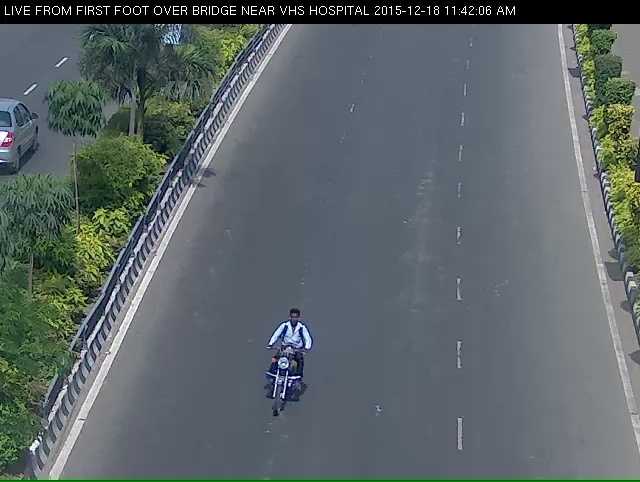Person: (225, 321, 305, 462)
